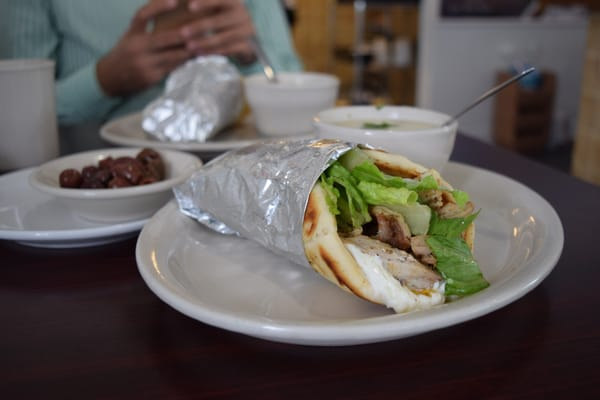salad: (438, 65, 540, 126)
soup: (302, 143, 489, 313)
sushi: (29, 145, 202, 224), (311, 104, 459, 174), (242, 70, 340, 137)
